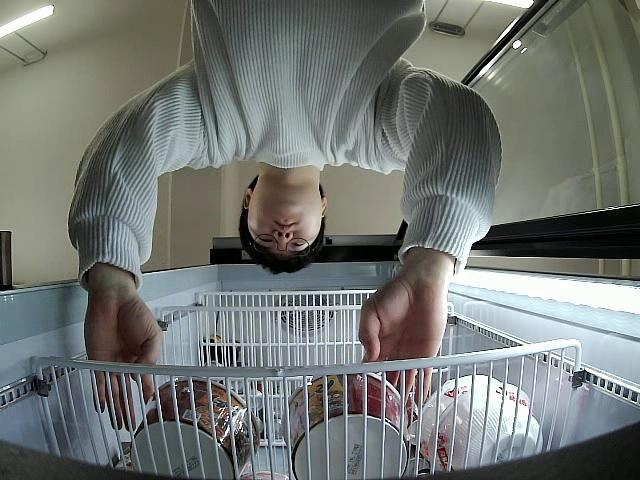00_hand: (357, 280, 447, 401), (85, 296, 161, 430)
